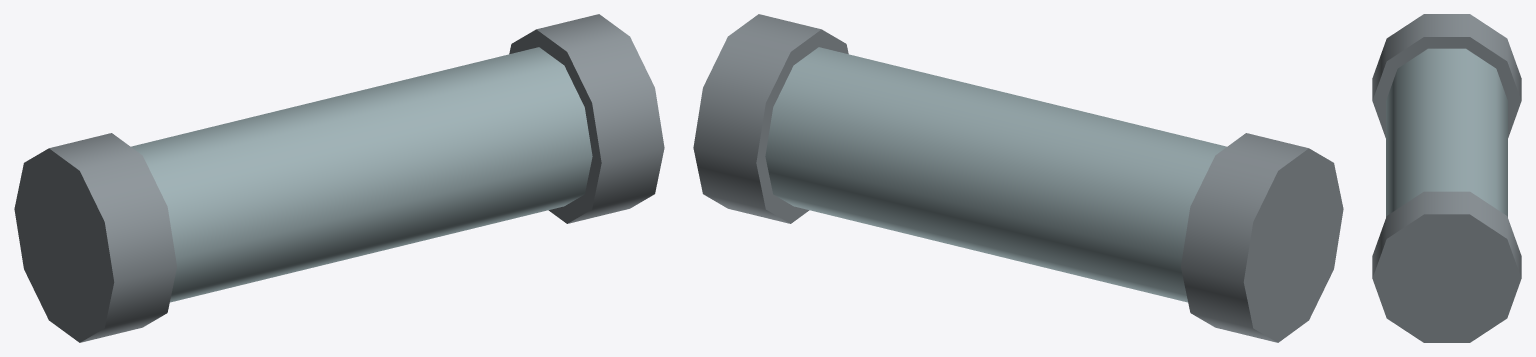
The model's file is fuse.glb.
3 renders of one model, left to right at view 1: azimuth 30°, elevation 25°; view 2: azimuth 150°, elevation 25°; view 3: azimuth 270°, elevation 25°, orthographic. The views are drawn at different scales.
Parts seen in each view (by area): view 1: fuse; view 2: fuse; view 3: fuse.
Boxes of the visible parts, x1,y1,x2,y2 form: fuse: [14, 14, 664, 342]; fuse: [693, 14, 1343, 342]; fuse: [1372, 14, 1521, 342].
Bounding box in the file's own units: 0.07 × 0.0209 × 0.022.
